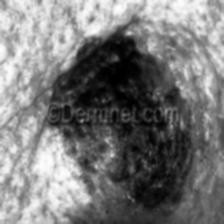Potentially Malignant Skin Tumors: (53, 32, 188, 200)
